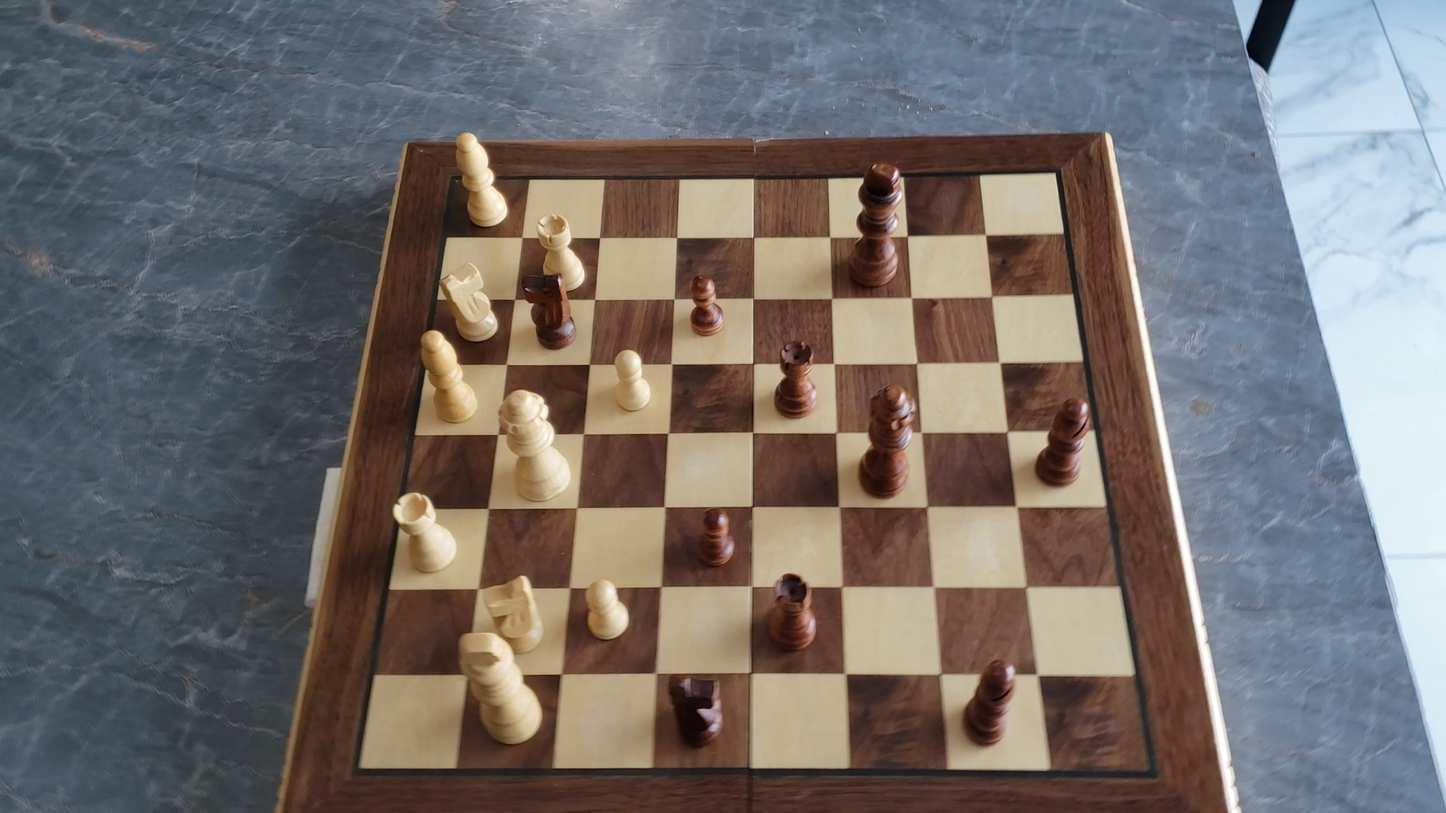black-bishop: (1022, 390, 1093, 495), (961, 655, 1023, 748)
black-king: (848, 158, 907, 291)
black-knight: (521, 270, 579, 351), (667, 672, 726, 750)
black-pawn: (696, 504, 738, 570), (686, 271, 726, 339)
black-queen: (856, 382, 920, 500)
black-rook: (763, 571, 820, 655), (772, 338, 820, 419)
white-bishop: (415, 327, 481, 426), (450, 126, 511, 231)
white-king: (456, 625, 548, 746)
white-knight: (480, 571, 548, 658), (438, 260, 503, 346)
white-pawn: (581, 575, 634, 644), (607, 346, 655, 416)
white-queen: (496, 387, 577, 506)
white-rook: (390, 489, 461, 576), (532, 211, 590, 295)
